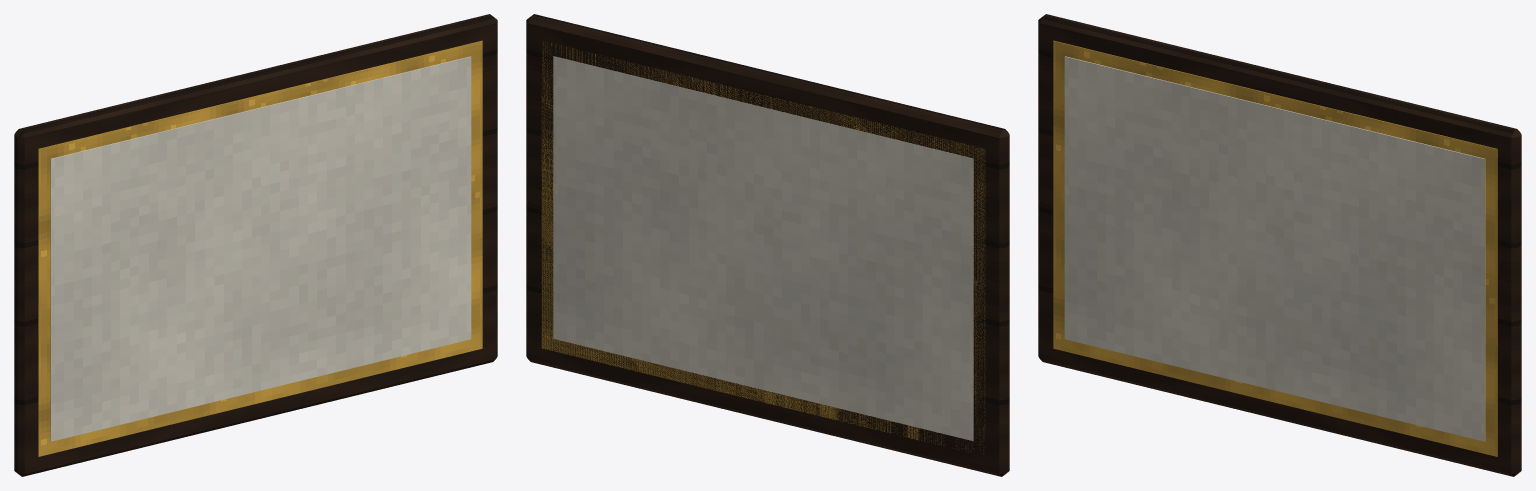
The model's file is photo_frame_large.glb.
3 renders of one model, left to right at view 1: azimuth 30°, elevation 25°; view 2: azimuth 150°, elevation 25°; view 3: azimuth 330°, elevation 25°, orthographic.
Visible parts, largest first — view 1: photo_frame_large; view 2: photo_frame_large; view 3: photo_frame_large.
Part boxes in pixels (<box>): photo_frame_large: <box>14,14,497,476</box>; photo_frame_large: <box>526,14,1009,476</box>; photo_frame_large: <box>1038,14,1521,476</box>.
Size of the model in its own units: 1.6 by 1.1 by 0.055.
3 materials, 3 textured.
